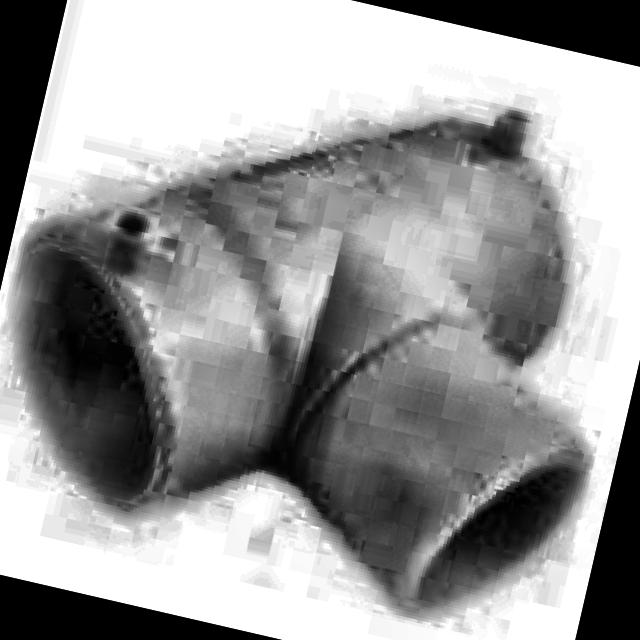EQUALTEE: (7, 111, 590, 615)
